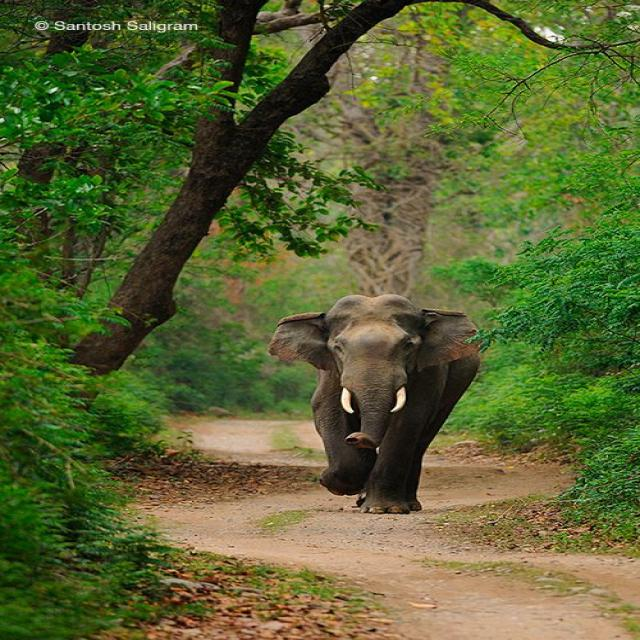Elephant: (265, 289, 494, 524)
